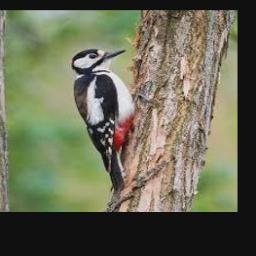Woodpecker: (71, 50, 135, 193)
